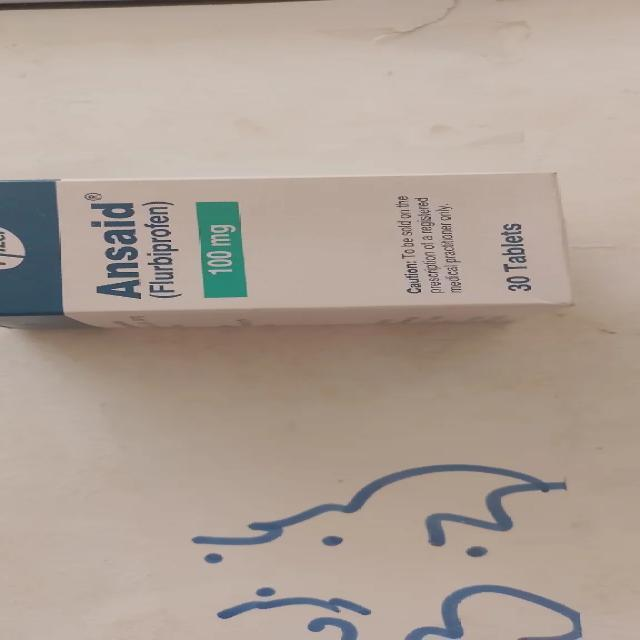drug-name: (82, 200, 144, 302)
